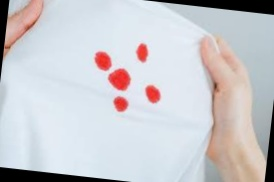blood: (107, 66, 132, 91), (94, 50, 113, 71), (143, 84, 162, 105), (112, 96, 130, 113), (135, 42, 149, 63)
